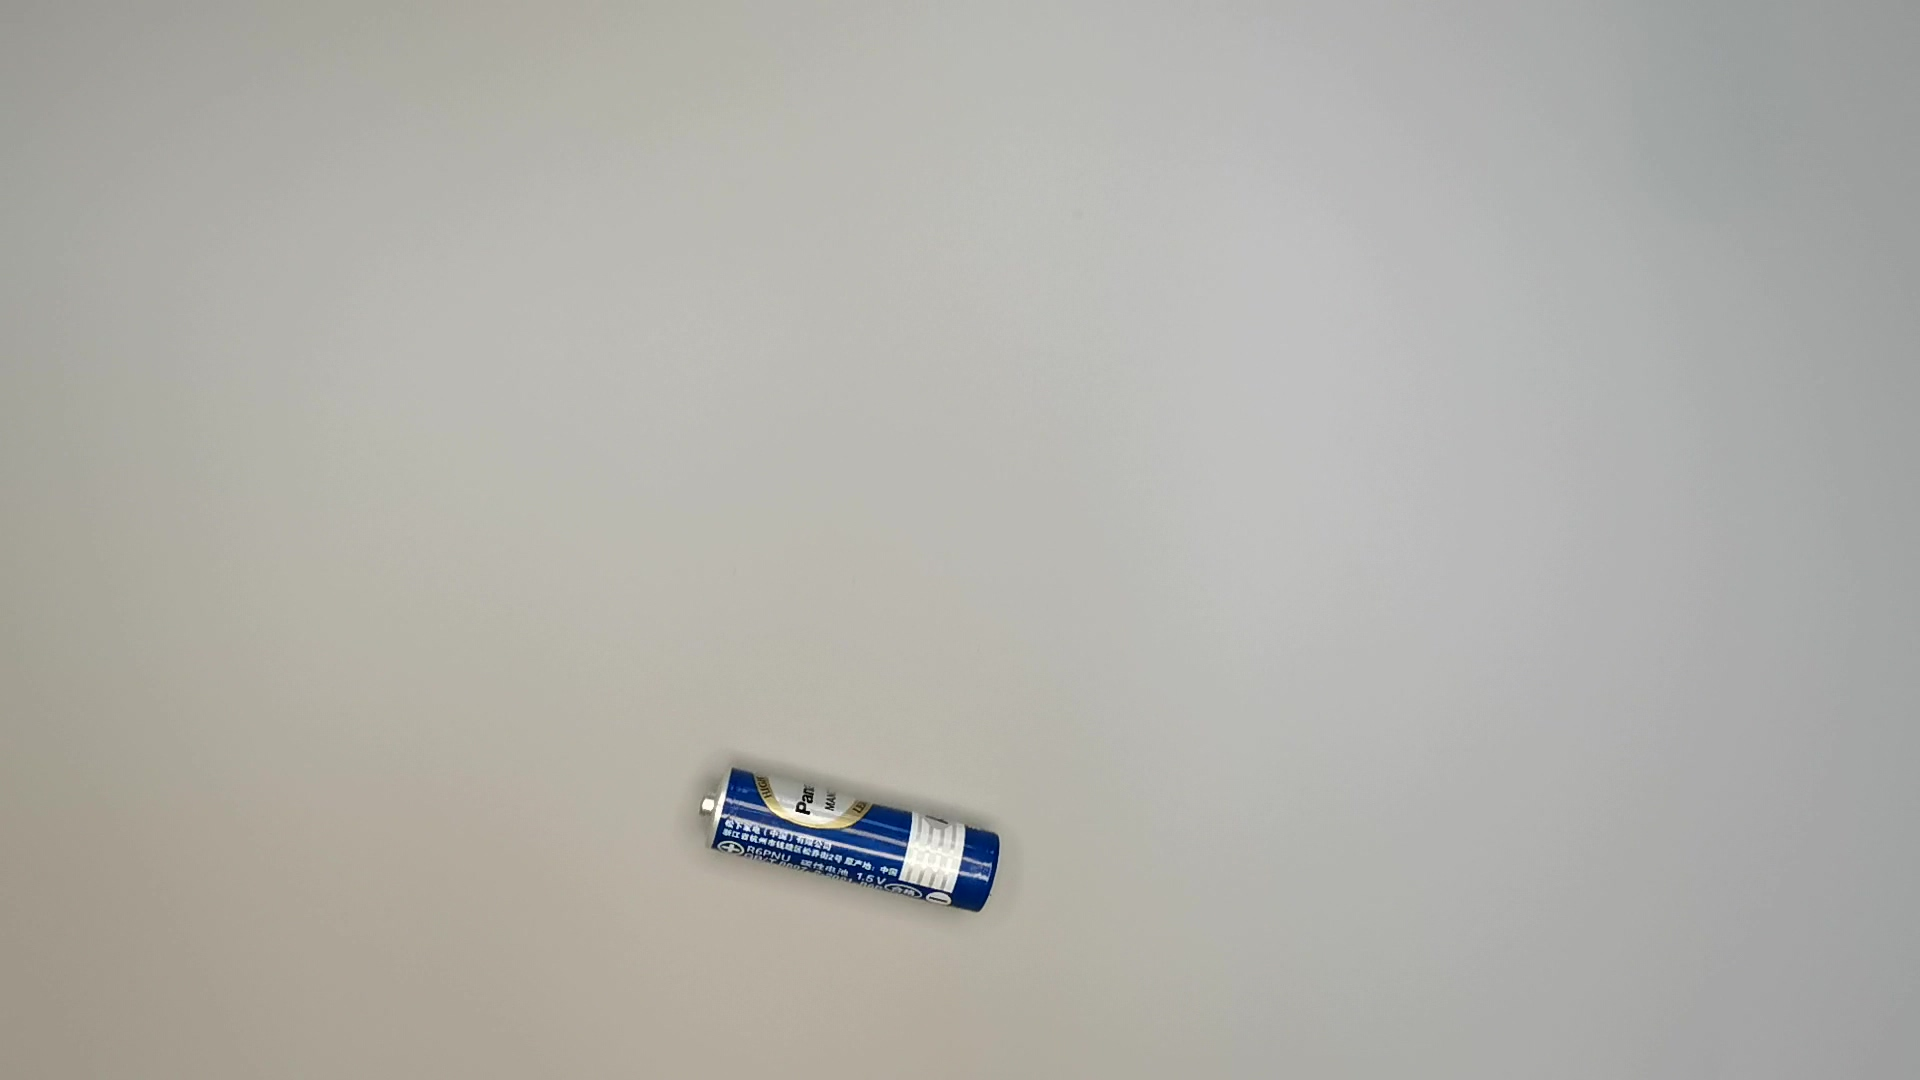battery: (688, 764, 1011, 922)
